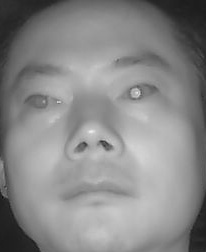eye: (114, 79, 159, 107), (24, 89, 64, 116)
mouth: (62, 169, 137, 213)
